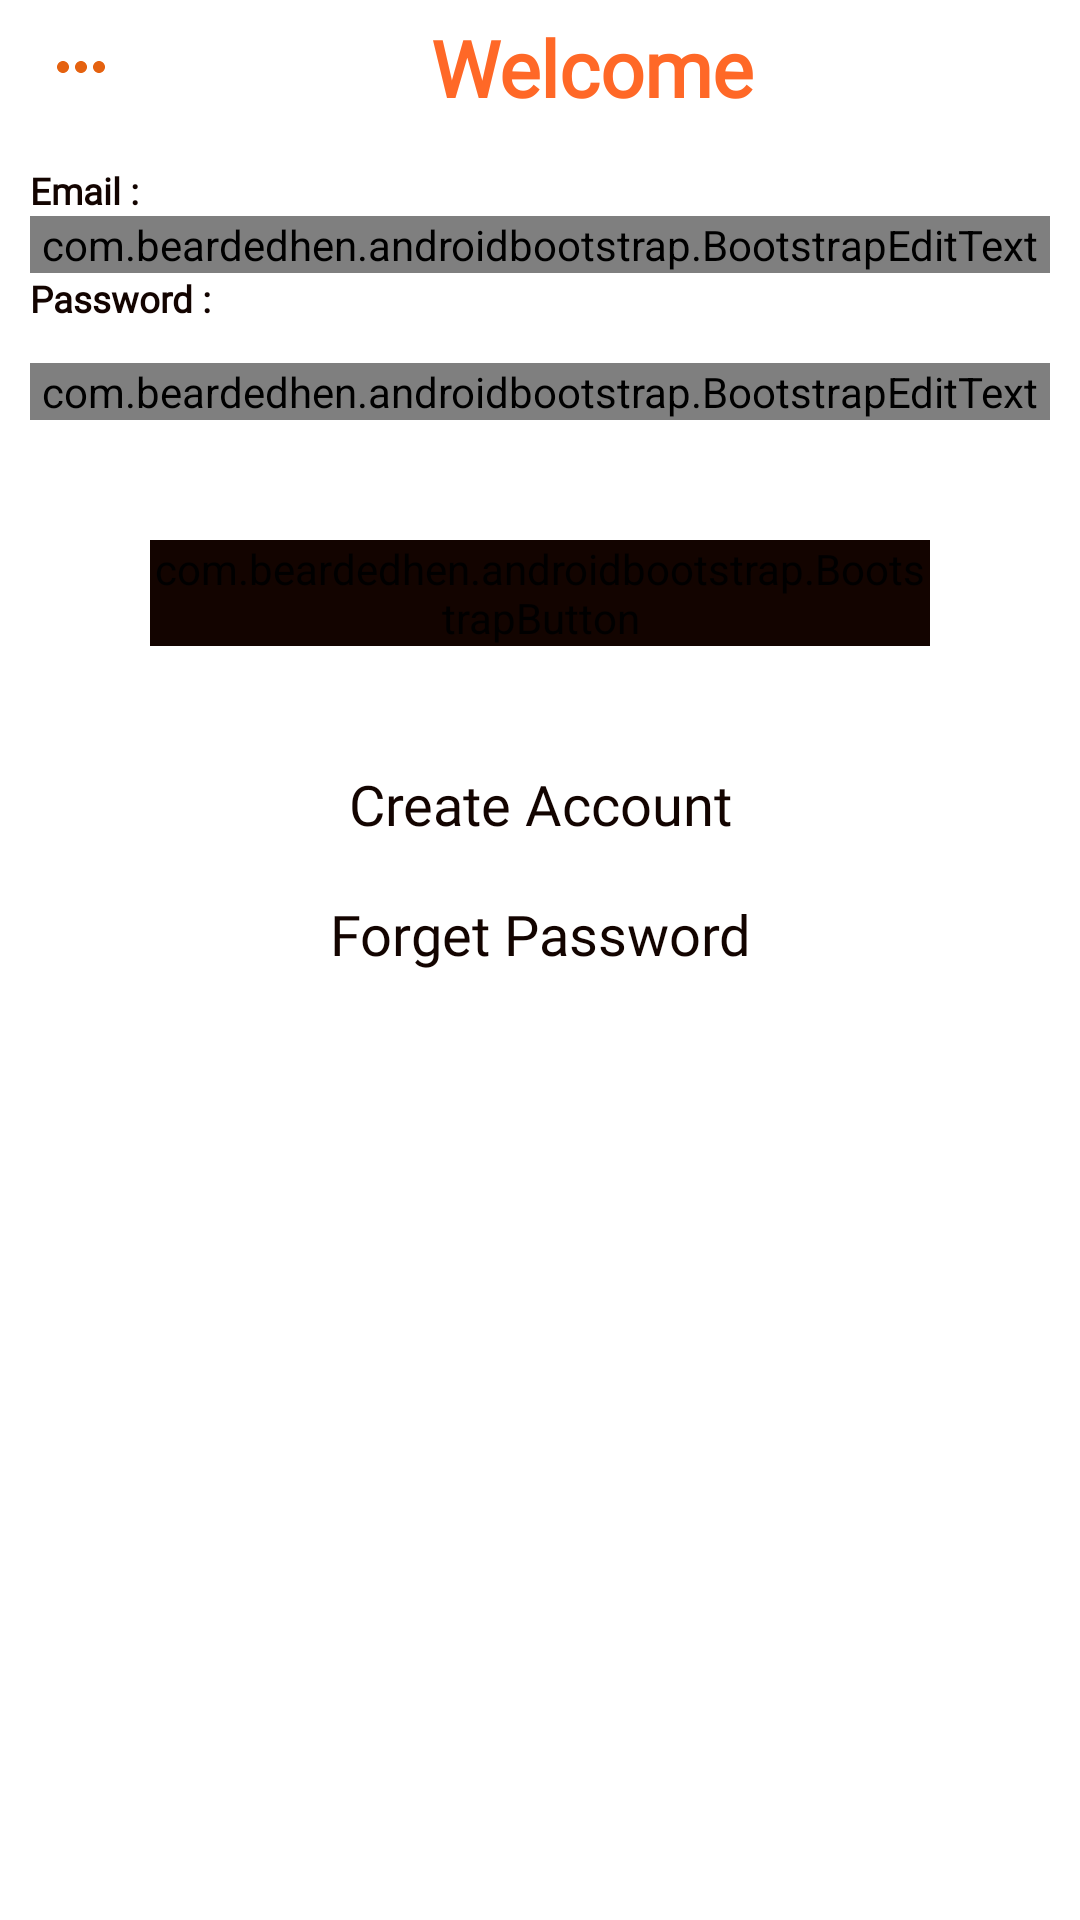

Icons on this 1080*1920 Android screen, each with the point to tap as point (x, y):
more horiz: point (81, 67)
